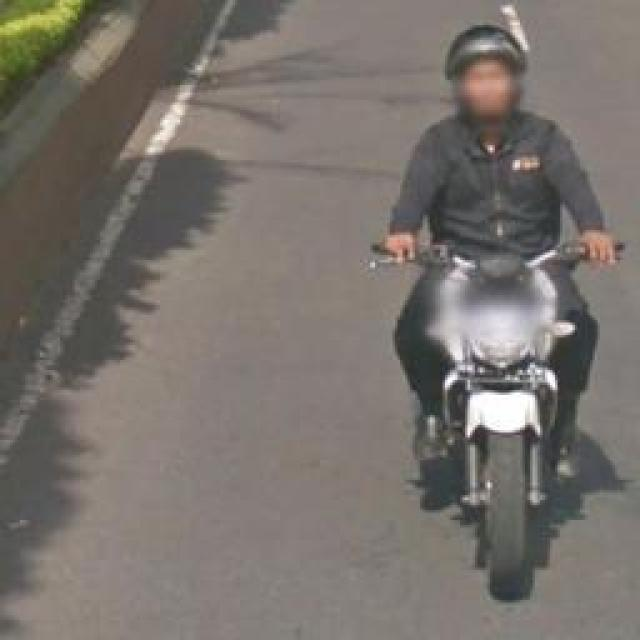motorbike: (376, 19, 626, 604)
